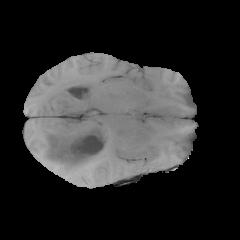glioma: (41, 127, 107, 173)
